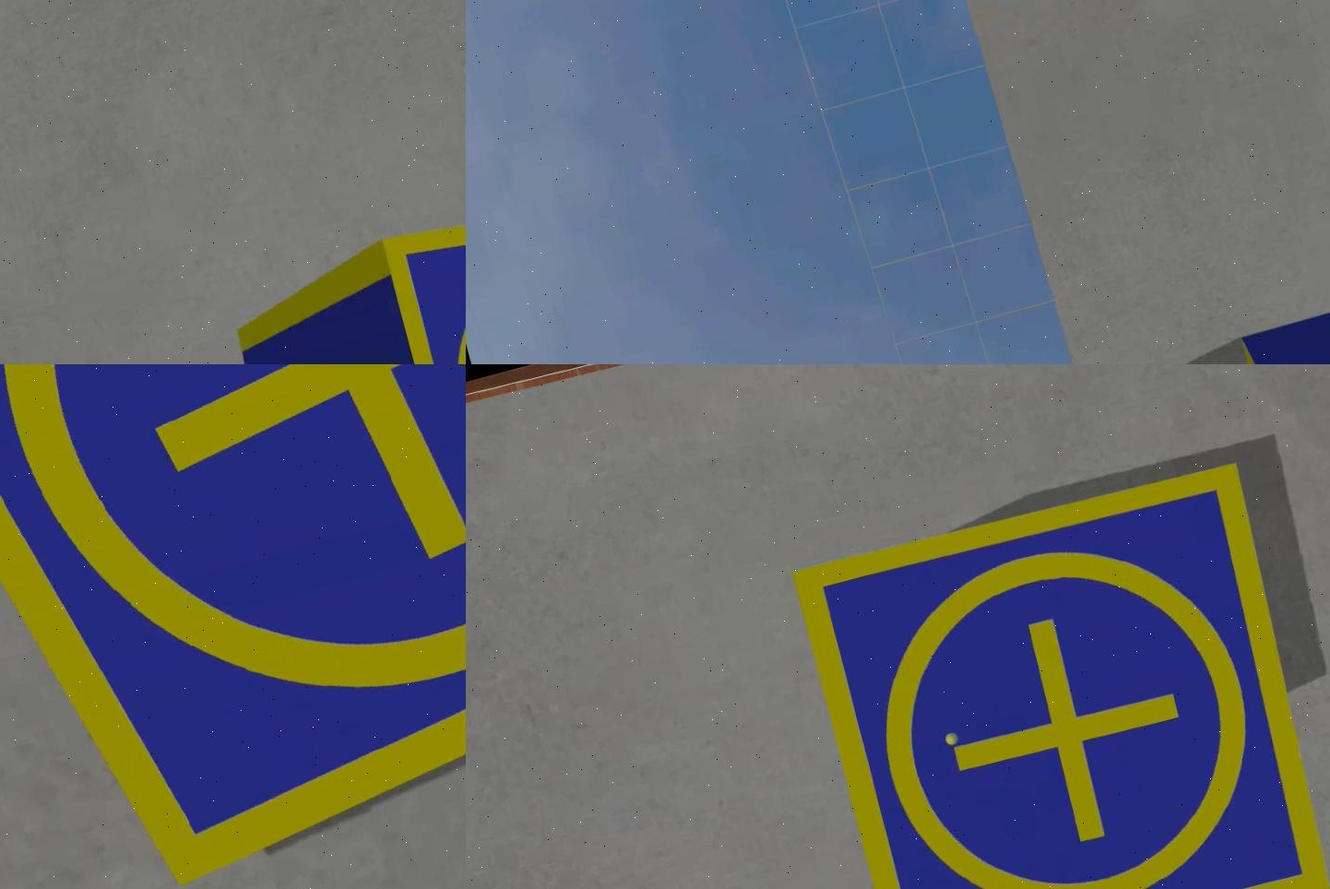small_base: (0, 365, 464, 889), (791, 453, 1328, 889)
